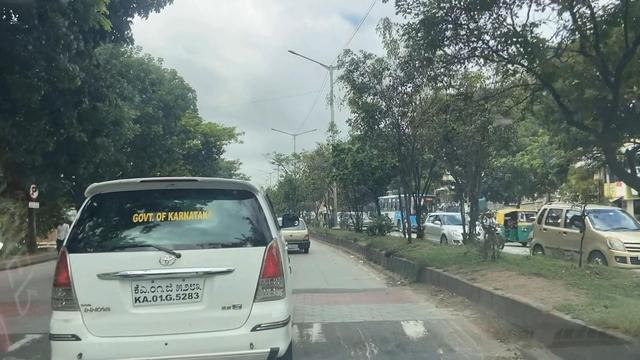LMV: (479, 206, 506, 251)
